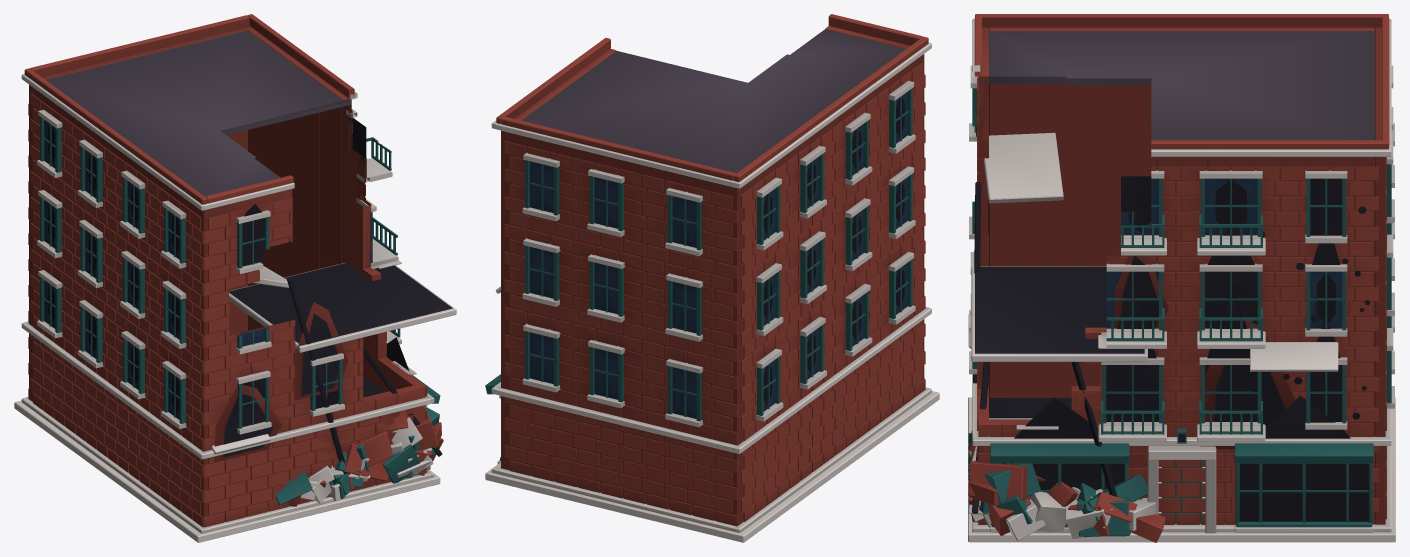
The picture shows the model from 3 angles, left to right: view 1: azimuth 30°, elevation 25°; view 2: azimuth 150°, elevation 25°; view 3: azimuth 270°, elevation 25°; orthographic projection. The views are drawn at different scales.
Parts seen in each view (by area): view 1: body_pal_brick, body_pal_picketWhite, roof_pal_asphalt, body_pal_uiDark, body_pal_backpackTeal, body_pal_blueTrim; view 2: body_pal_brick, body_pal_picketWhite, roof_pal_asphalt, body_pal_backpackTeal, body_pal_blueTrim, body_pal_uiDark; view 3: body_pal_brick, body_pal_uiDark, body_pal_picketWhite, roof_pal_asphalt, body_pal_backpackTeal, body_pal_blueTrim, door_front_pal_backpackTeal.
Part boxes in pixels (bbox=[...]): body_pal_brick: bbox=[24, 14, 443, 527]; body_pal_picketWhite: bbox=[14, 73, 456, 542]; roof_pal_asphalt: bbox=[45, 30, 351, 196]; body_pal_uiDark: bbox=[47, 118, 452, 474]; body_pal_backpackTeal: bbox=[40, 117, 440, 504]; body_pal_blueTrim: bbox=[44, 116, 372, 419]; body_pal_brick: bbox=[496, 14, 928, 526]; body_pal_picketWhite: bbox=[485, 42, 939, 542]; roof_pal_asphalt: bbox=[521, 29, 906, 173]; body_pal_backpackTeal: bbox=[485, 88, 912, 460]; body_pal_blueTrim: bbox=[530, 92, 907, 418]; body_pal_uiDark: bbox=[763, 97, 904, 405]; body_pal_brick: bbox=[968, 14, 1389, 542]; body_pal_uiDark: bbox=[972, 176, 1370, 521]; body_pal_picketWhite: bbox=[968, 19, 1395, 542]; roof_pal_asphalt: bbox=[979, 28, 1374, 158]; body_pal_backpackTeal: bbox=[968, 88, 1391, 536]; body_pal_blueTrim: bbox=[976, 126, 1342, 328]; door_front_pal_backpackTeal: bbox=[1161, 460, 1202, 523].
Bounding box in the file's own units: 10.3 × 12.85 × 12.6.
